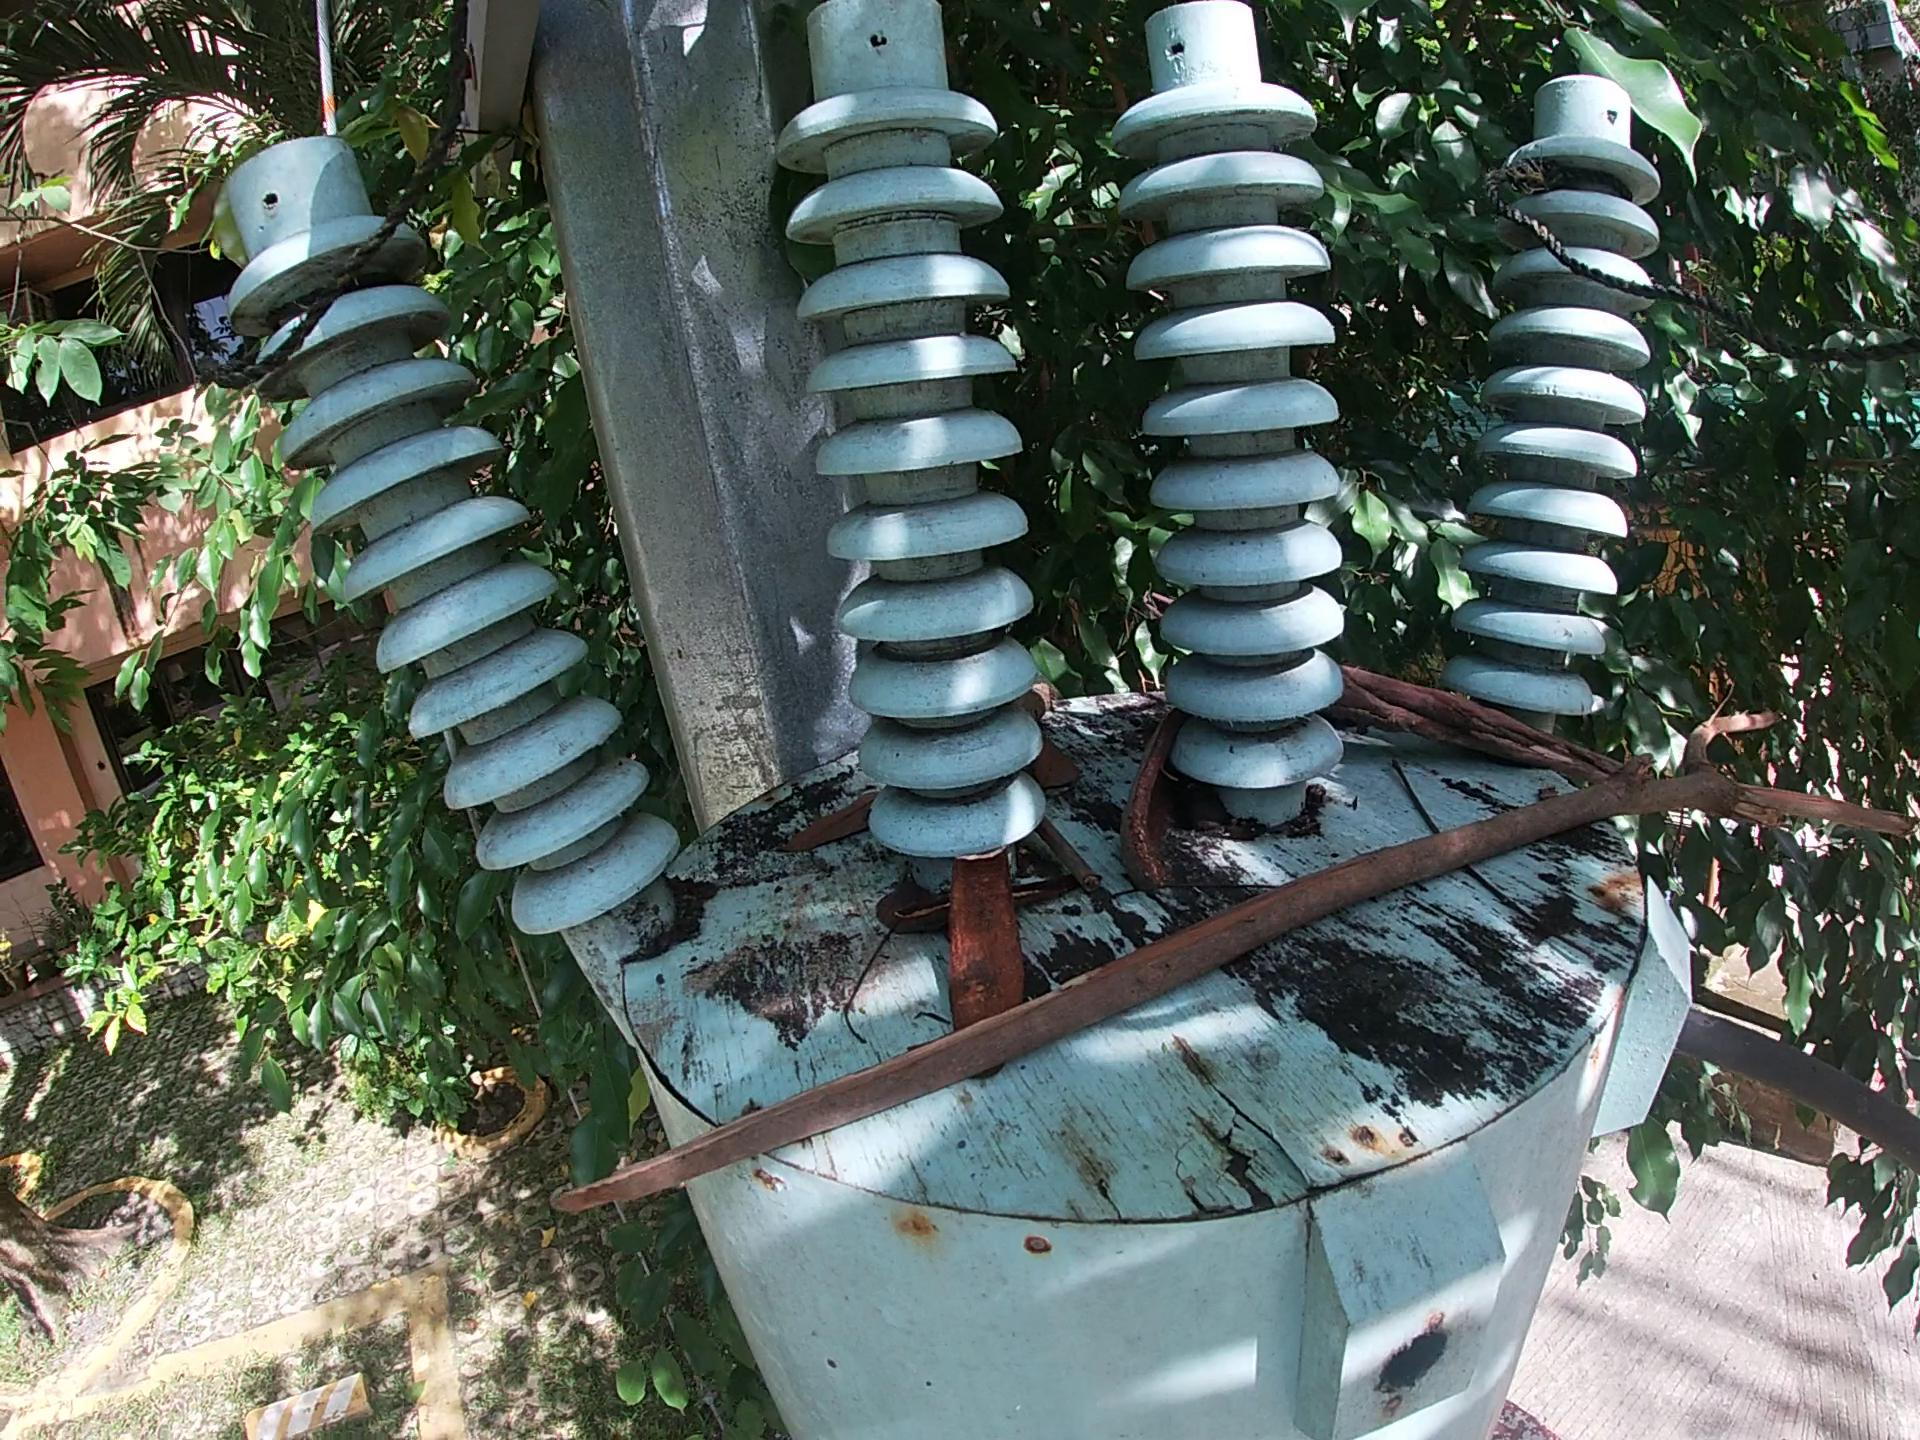leaf: (788, 803, 865, 876), (859, 889, 921, 945), (1040, 728, 1079, 808)
mahogany fruit: (930, 846, 1037, 1029), (1113, 691, 1179, 895), (1129, 585, 1175, 611)
tree branch: (544, 690, 1915, 1228), (1330, 653, 1615, 787), (1039, 817, 1113, 906), (844, 936, 893, 1047), (1476, 871, 1557, 929), (1394, 764, 1444, 827), (1116, 883, 1299, 895), (1027, 673, 1070, 715), (903, 902, 960, 929)
